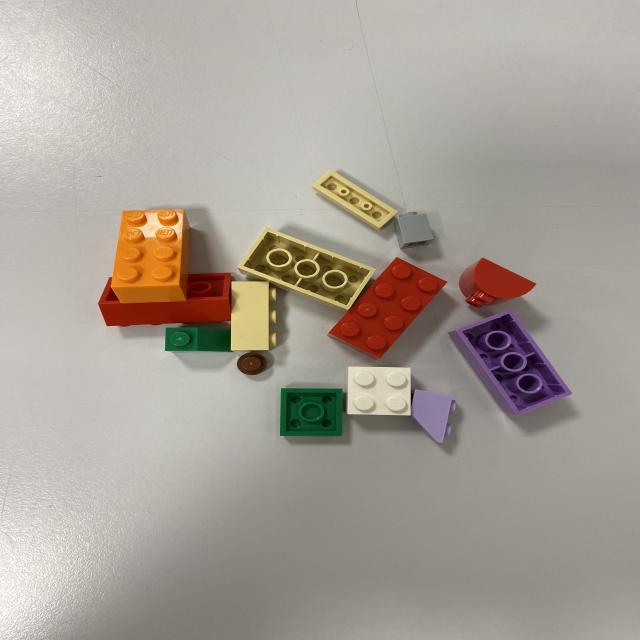C4x2x1: (330, 258, 447, 358), (114, 209, 185, 285), (113, 285, 184, 303)
